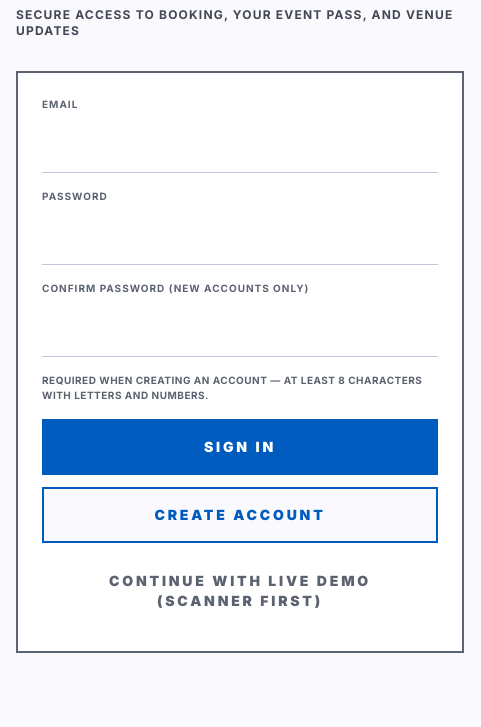
Test: Login › rejects weak password on register
Type "a@b.com" into the field labelled "Email" at (240, 146), box x1=42 y1=120 x2=438 y2=173
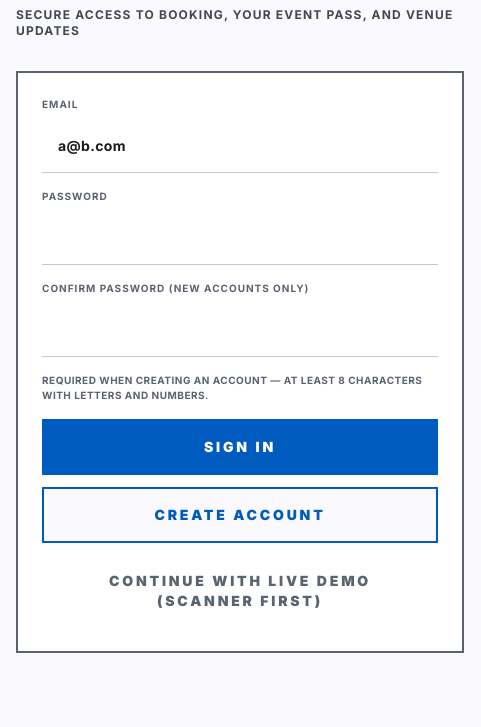
Type "abcdefgh" into the password field labelled "Password" at (240, 238), box x1=42 y1=212 x2=438 y2=265
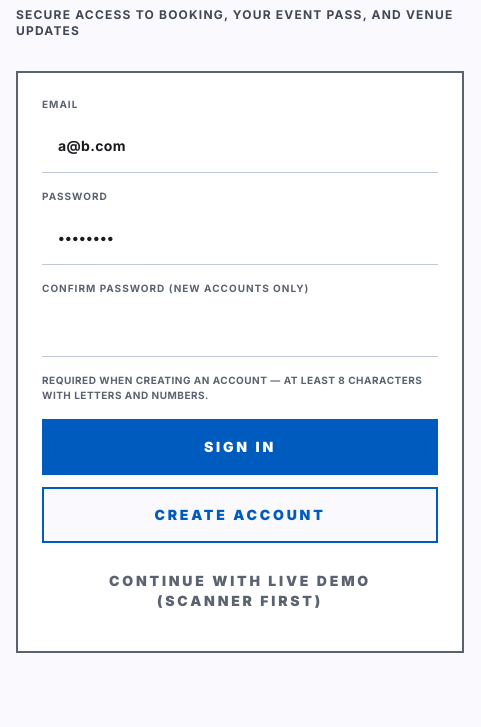
Type "abcdefgh" into the password field labelled "Confirm password (new accounts only)" at (240, 330), box x1=42 y1=304 x2=438 y2=357
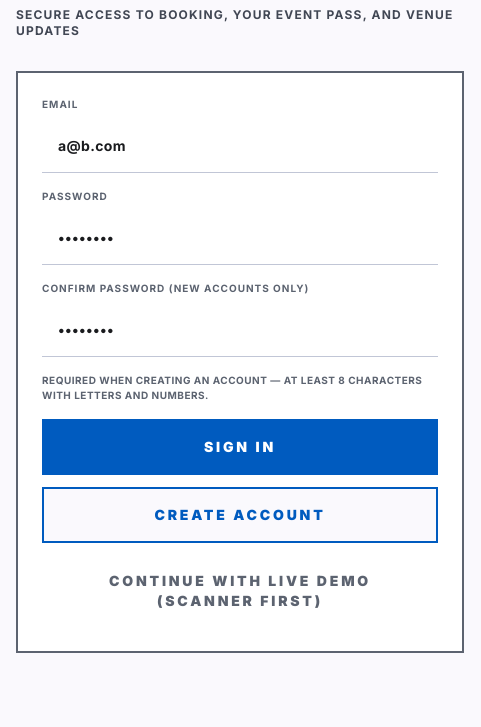
Click the button "Create Account" at (240, 515), box x1=42 y1=487 x2=438 y2=543
(page scrolled)
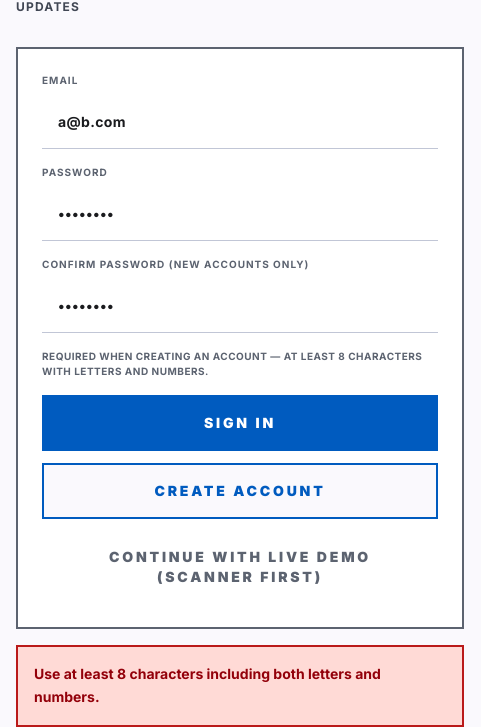
Now the message shows "letters and numbers", box x1=34 y1=665 x2=381 y2=705
